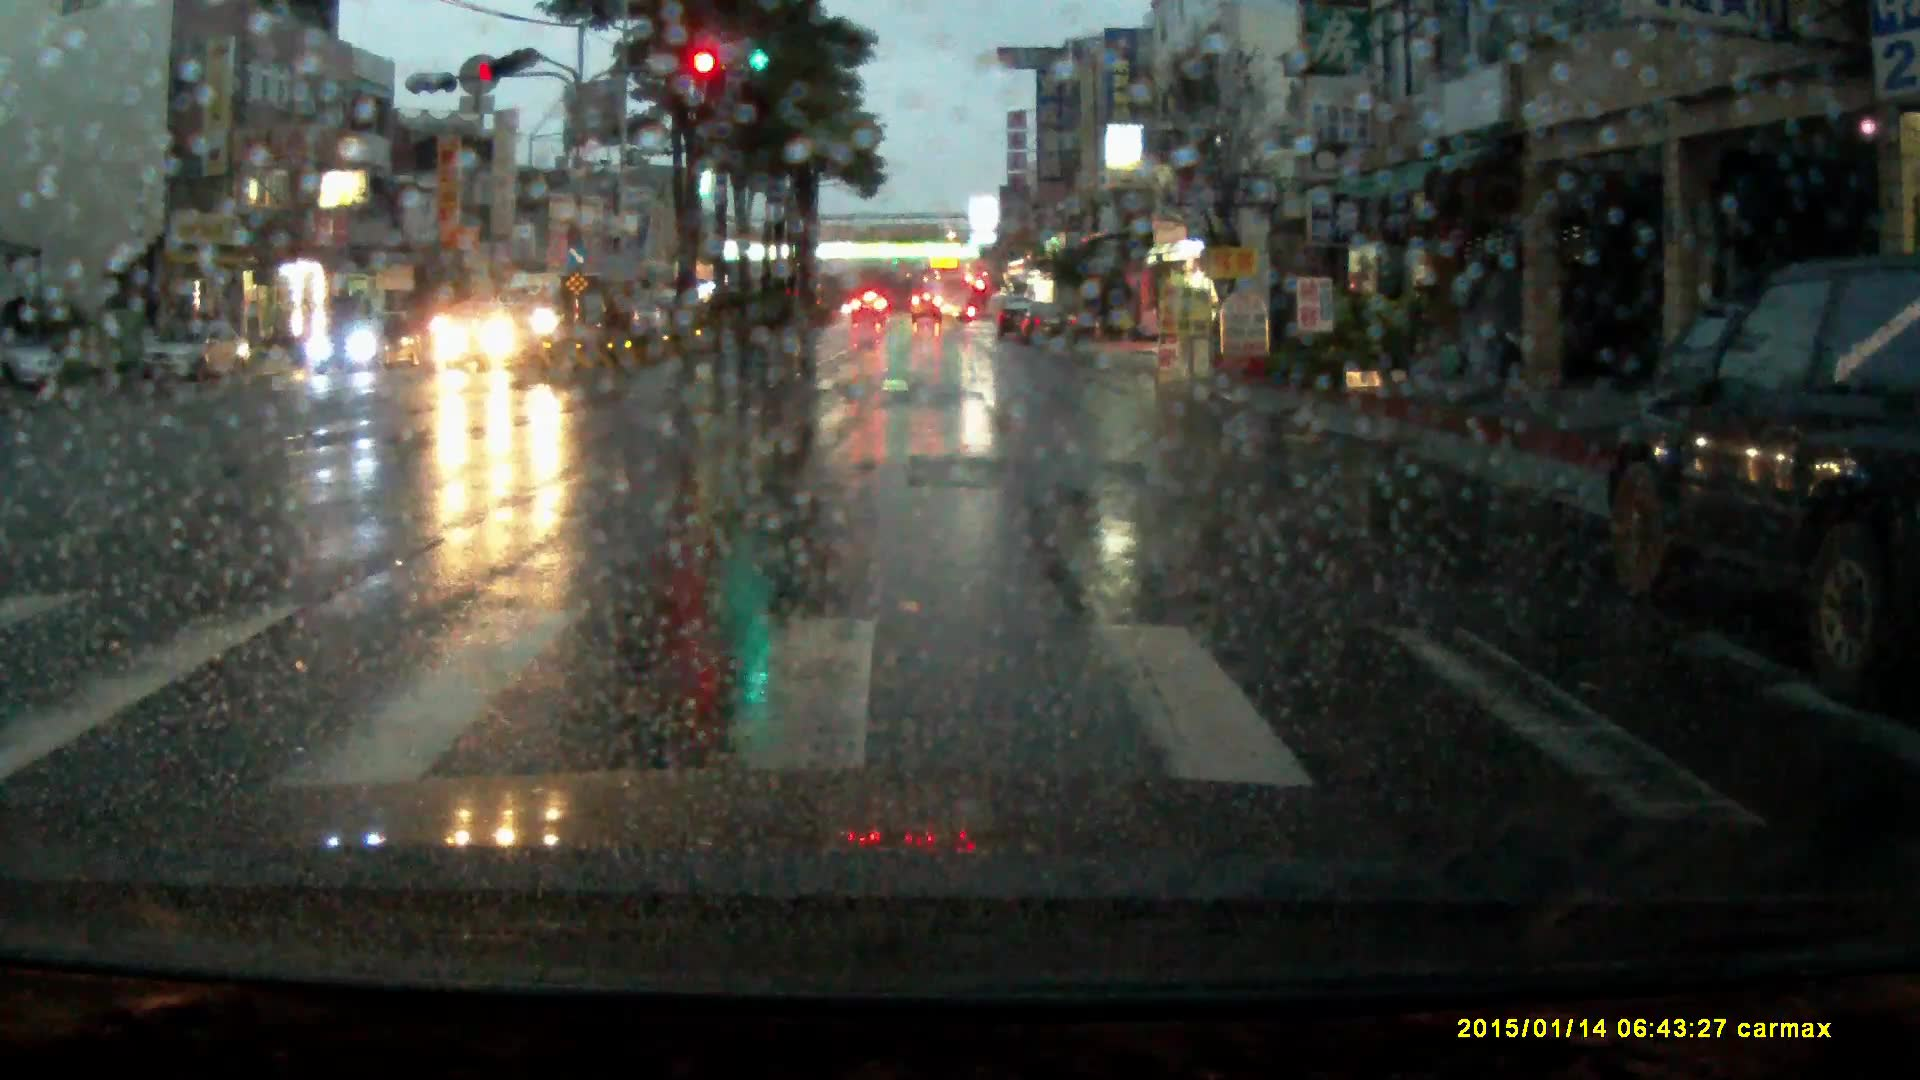vehicle: (1604, 258, 1920, 711), (1648, 303, 1749, 398), (495, 276, 611, 343), (138, 320, 255, 385), (440, 303, 546, 373), (309, 313, 425, 373), (1, 335, 71, 385), (1017, 305, 1083, 345), (936, 270, 975, 323), (998, 298, 1036, 342), (851, 291, 889, 327), (913, 293, 943, 326)
